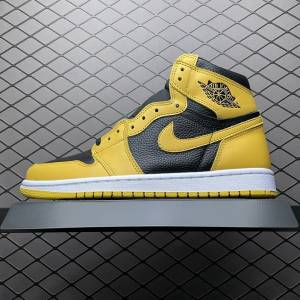Jordan 1: (17, 52, 283, 204)
